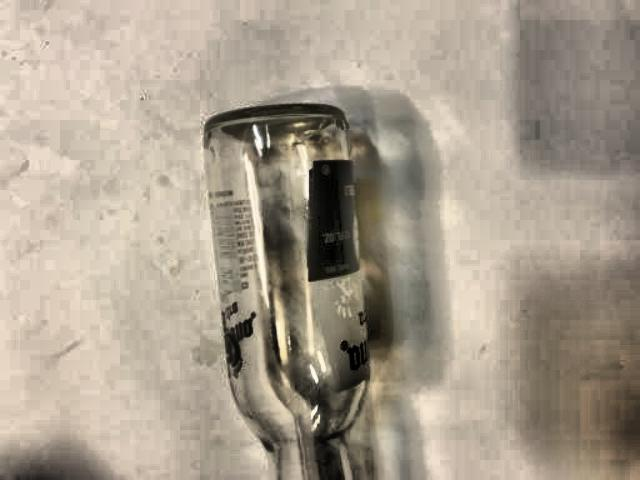Bottles: (29, 15, 618, 480)
